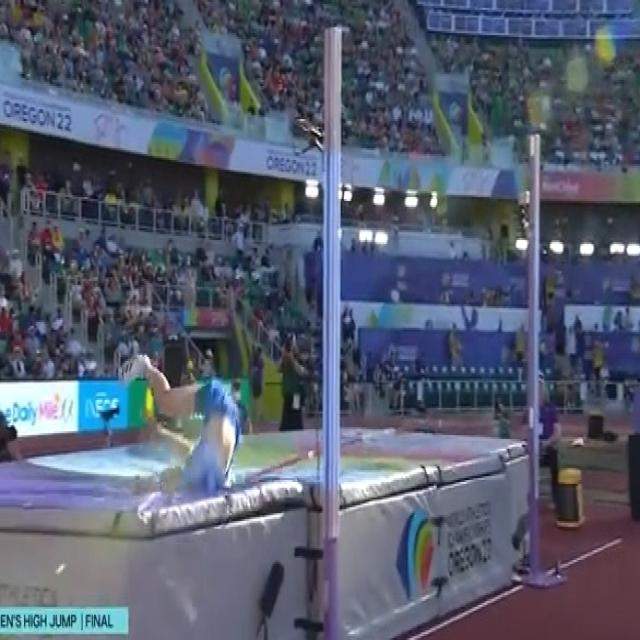land: (118, 354, 241, 495)
